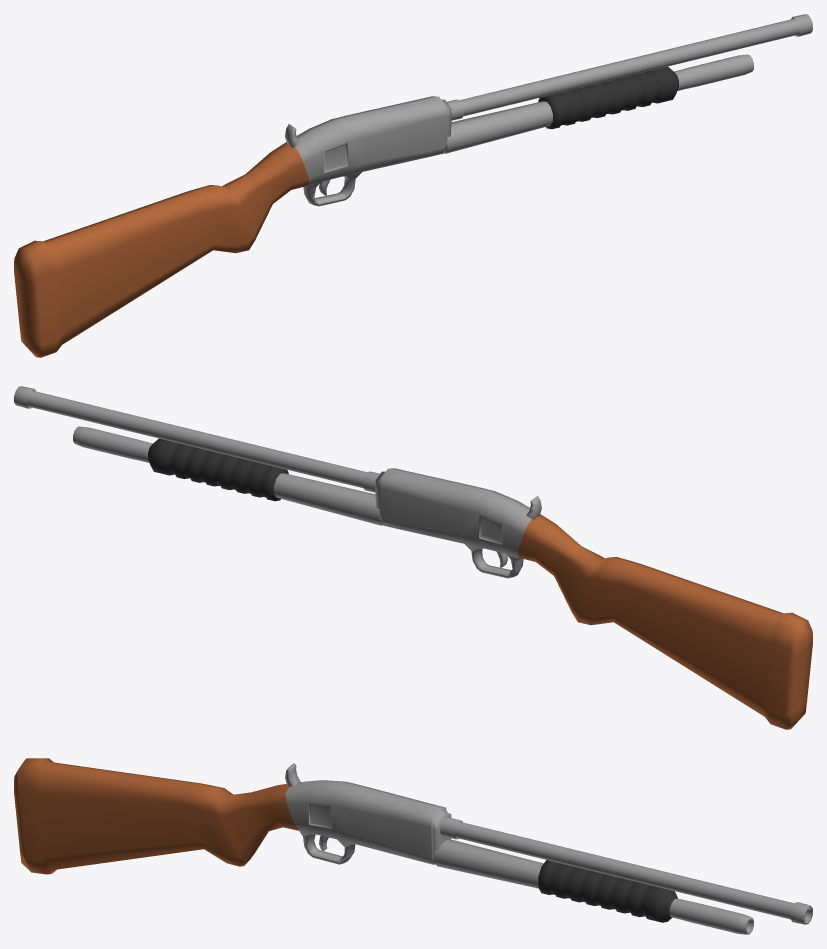
Rendered from gun04.fbx.
3 views of the same model, one above another, from view 1: azimuth 30°, elevation 25°; view 2: azimuth 150°, elevation 25°; view 3: azimuth 330°, elevation 25° (orthographic).
Visible parts, largest first — view 1: gun4; view 2: gun4; view 3: gun4.
Part boxes in pixels (x1,y1,x2,y2): gun4: [14, 14, 812, 357]; gun4: [14, 386, 812, 729]; gun4: [14, 758, 812, 934].
Size of the model in its own units: 168 by 34.54 by 7.17.
